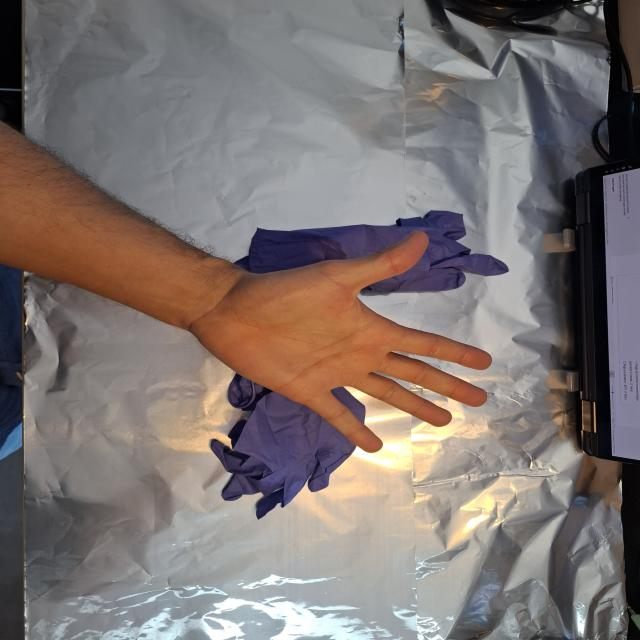glove_off: (184, 227, 496, 455)
